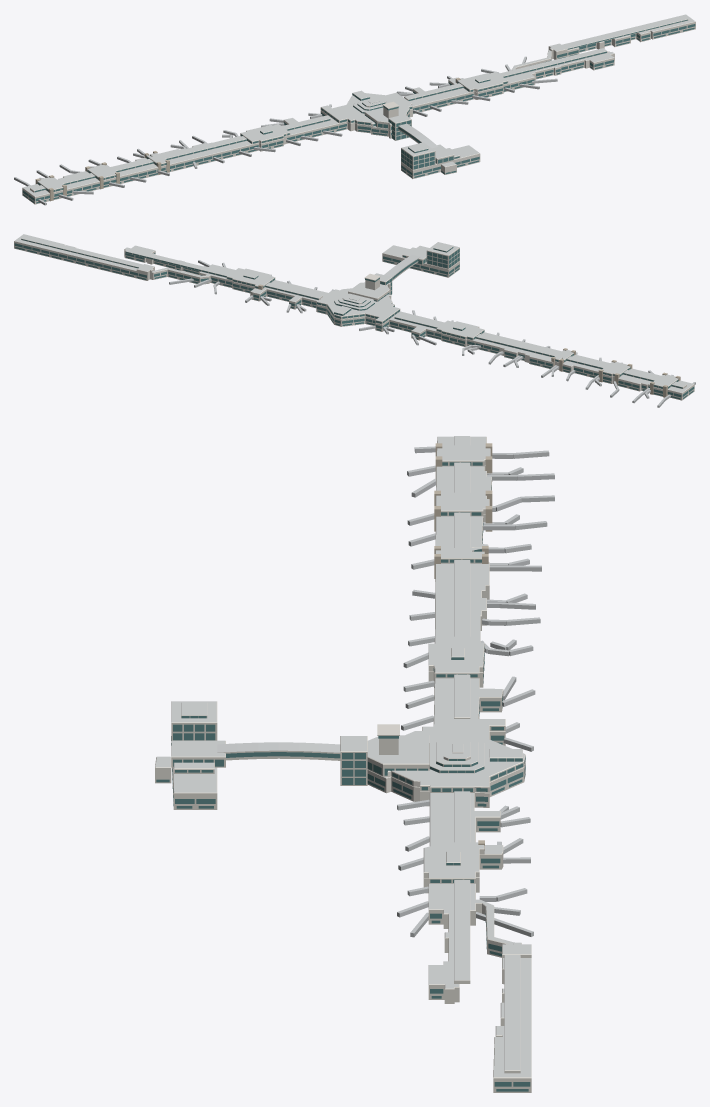
The model's file is den-airport-concourse-a.glb.
3 renders of one model, top to bottom at view 1: azimuth 30°, elevation 25°; view 2: azimuth 150°, elevation 25°; view 3: azimuth 270°, elevation 25°, orthographic. The views are drawn at different scales.
Parts seen in each view (by area): view 1: Denver International Airport, Concourse A; view 2: Denver International Airport, Concourse A; view 3: Denver International Airport, Concourse A.
Boxes of the visible parts, x1,y1,x2,y2 form: Denver International Airport, Concourse A: [14, 14, 695, 205]; Denver International Airport, Concourse A: [14, 234, 695, 407]; Denver International Airport, Concourse A: [155, 436, 554, 1092].
Size of the model in its own units: 1220 by 42.8 by 322.
